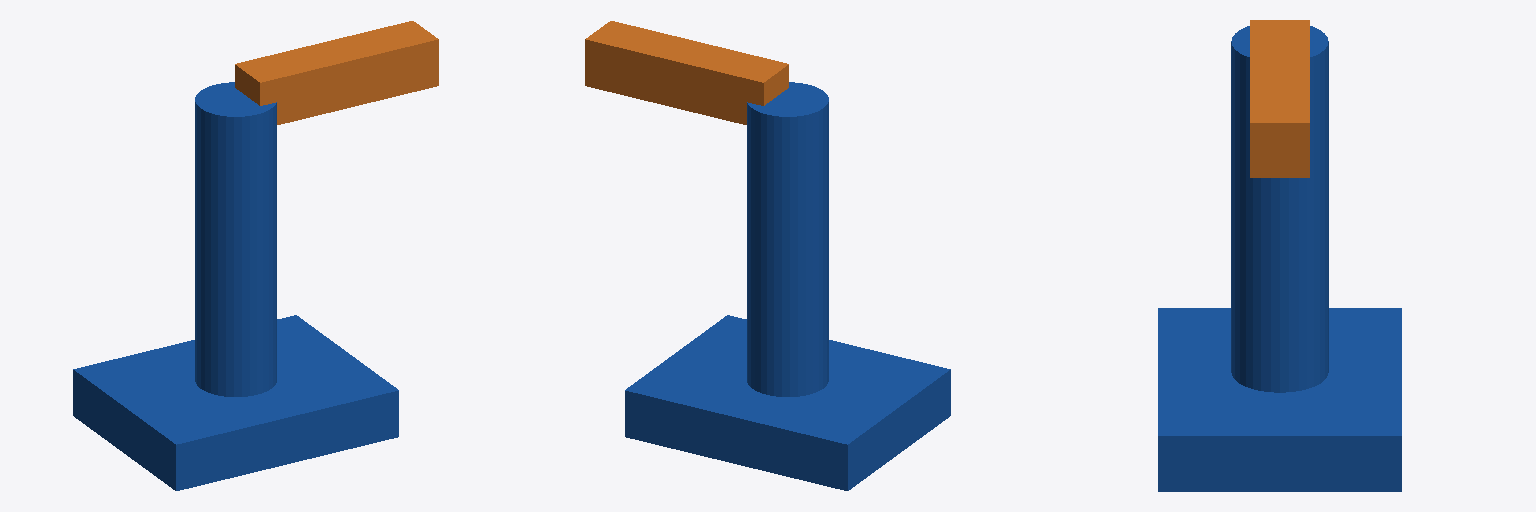
URDF robot description (inspection_arm):
<?xml version="1.0"?>
<robot name="inspection_arm">
  <material name="blue"><color rgba="0.15 0.4 0.7 1"/></material>
  <material name="orange"><color rgba="0.85 0.5 0.2 1"/></material>
  <link name="base">
    <visual name="base_plate"><geometry><box size="1 0.8 0.2"/></geometry><material name="blue"/></visual>
  </link>
  <link name="column">
    <visual name="column_body"><origin xyz="0 0 0.6"/><geometry><cylinder radius="0.16" length="1.2"/></geometry><material name="blue"/></visual>
  </link>
  <joint name="base_joint" type="fixed"><parent link="base"/><child link="column"/><origin xyz="0 0 0.1"/></joint>
  <link name="tool">
    <visual name="tool_mesh"><origin xyz="0.45 0 0"/><geometry><mesh filename="meshes/tool.obj" scale="0.8 0.2 0.2"/></geometry><material name="orange"/></visual>
  </link>
  <joint name="shoulder" type="revolute"><parent link="column"/><child link="tool"/><origin xyz="0 0 1.2"/><axis xyz="0 1 0"/><limit lower="-1.57" upper="1.57" effort="10" velocity="1"/></joint>
</robot>

--- Render facts (derived) ---
3 views of the same robot in one strip: view 1: azimuth 30°, elevation 25°; view 2: azimuth 150°, elevation 25°; view 3: azimuth 270°, elevation 25° (orthographic).
Model inspection_arm with 3 links and 2 joints (1 revolute, 1 fixed), rooted at base, posed every joint at zero.
Visible links, largest first — view 1: base, column, tool; view 2: base, column, tool; view 3: base, column, tool.
Boxes of the visible links, x1,y1,x2,y2 form: base: (73, 315, 398, 490); column: (195, 82, 276, 396); tool: (235, 21, 438, 124); base: (625, 315, 950, 490); column: (747, 82, 828, 396); tool: (585, 21, 788, 124); base: (1158, 308, 1401, 491); column: (1231, 26, 1328, 392); tool: (1250, 20, 1309, 177).
Size in the robot's own frame: 1.35 by 0.8 by 1.5 metres.
1 mesh visuals loaded from 1 distinct referenced files (1 OBJ).
